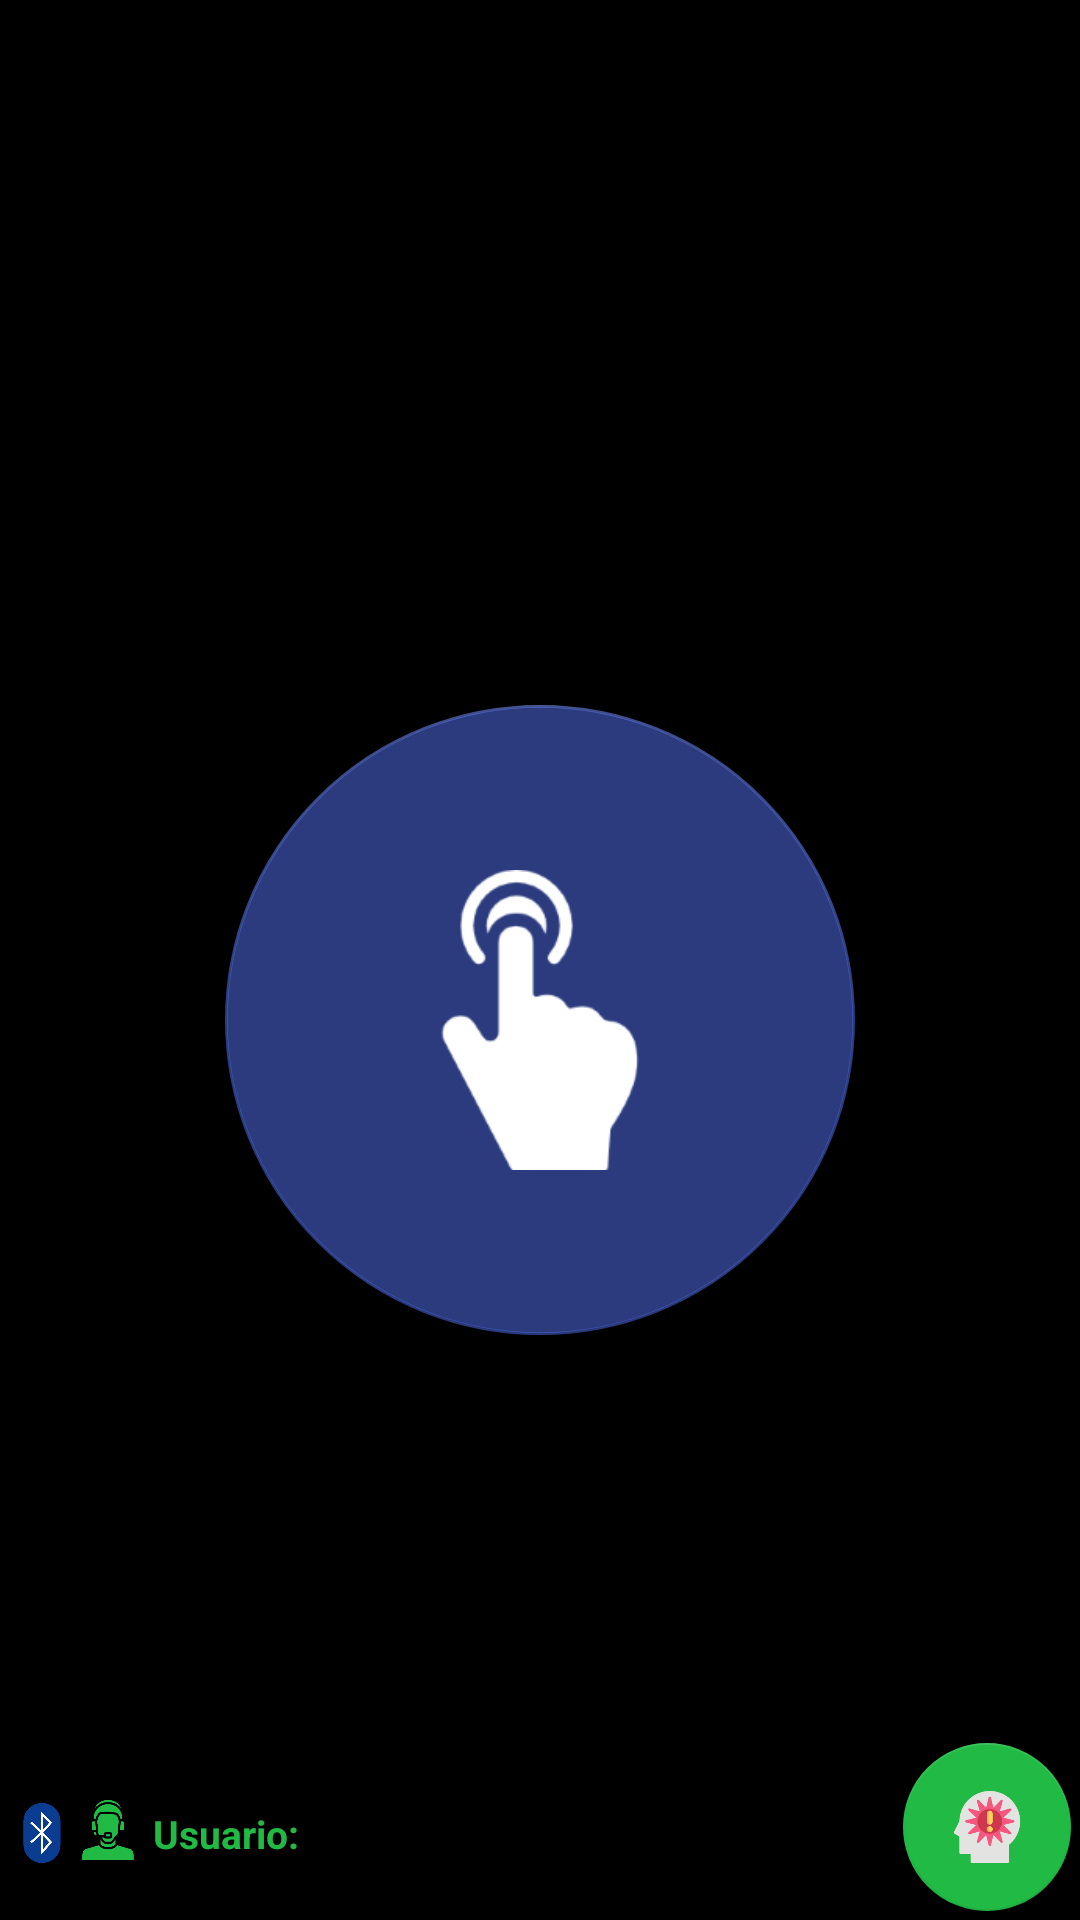

Icon bounding boxes for this 1080w x 1920h phone screenshot, format {"left": x1, "top": y1, "right": x2, "bottom": y2}:
panico: {"left": 903, "top": 1743, "right": 1071, "bottom": 1911}
